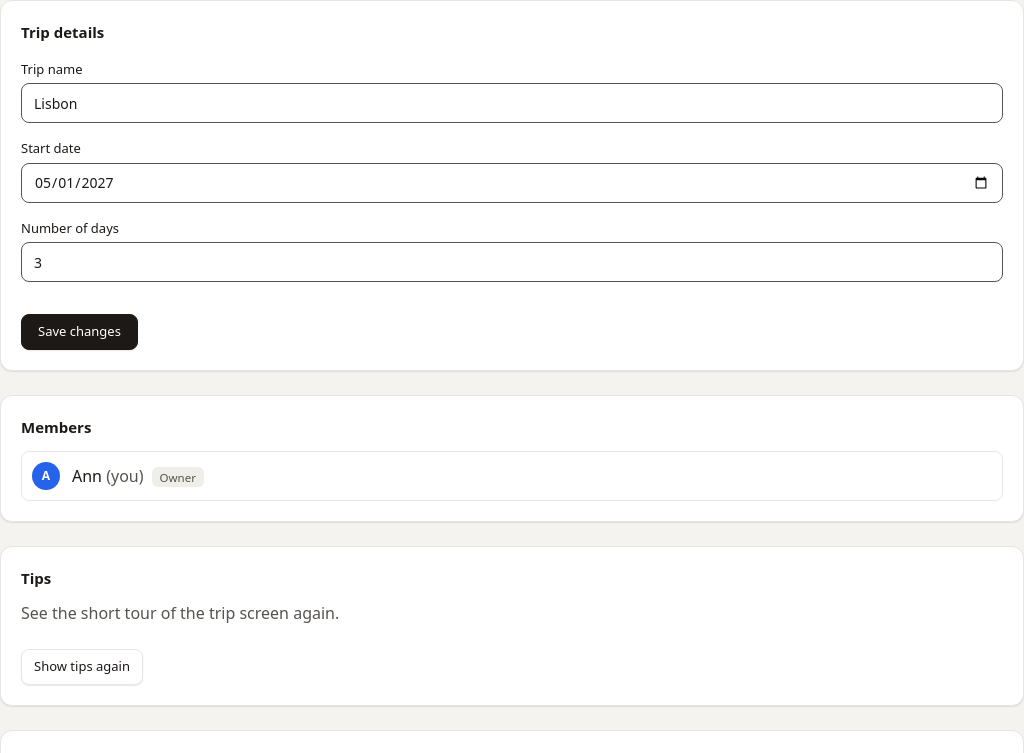
Test: show tips again › says so when offline, and keeps what this device knows
Click the button "Show tips again".
click(82, 667)  # box left=21, top=649, right=143, bottom=685
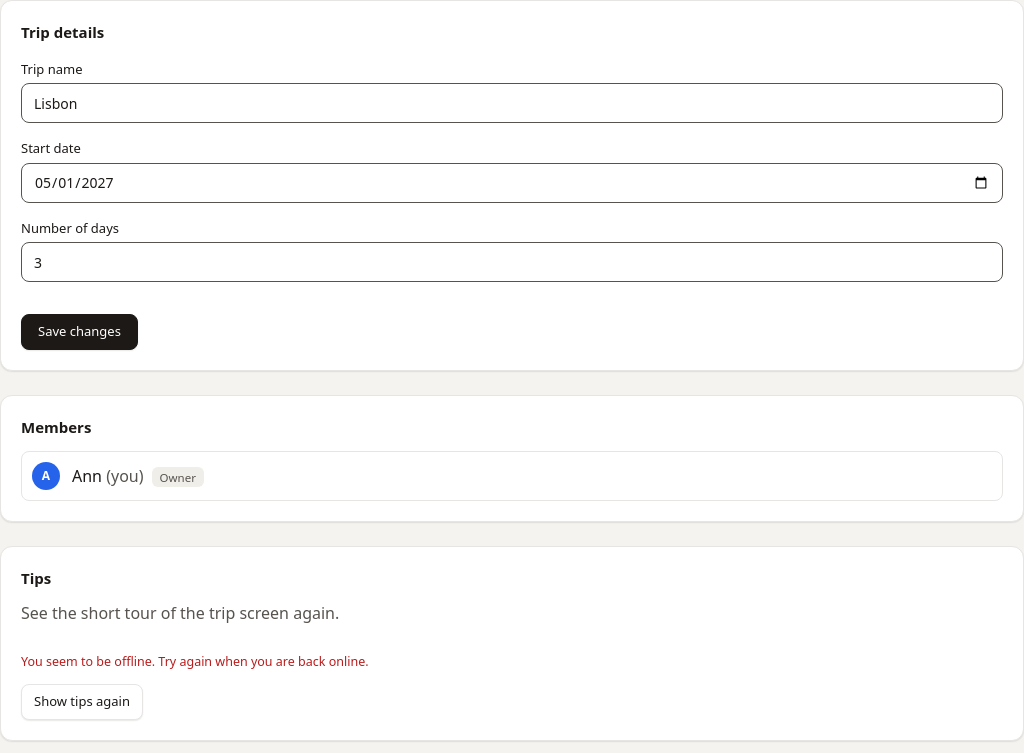
Now the message shows "offline", box left=21, top=653, right=368, bottom=670
